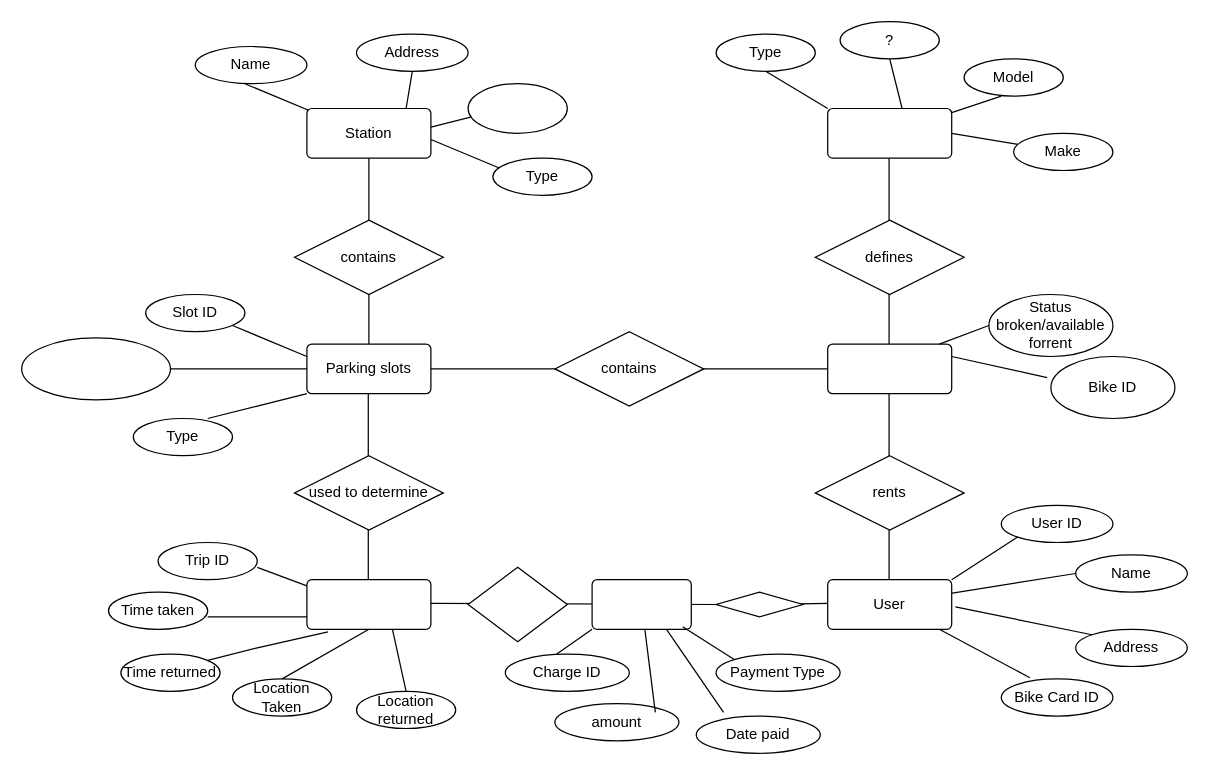
Some shapes in this 1209 by 775 pixel diagram are drawn without their labels. The shapes that lost their labels are listed below. From the top down, each one's centre as x and y in pixels, then its label:
At [517,107]: "ID".
At [889,132]: "Bike Definition".
At [95,368]: "Status (broken/available foruse".
At [889,368]: "Bike Rental instances".
At [368,603]: "Trips".
At [517,604]: "determine".
At [641,603]: "Charges".
At [759,604]: "Pays".
